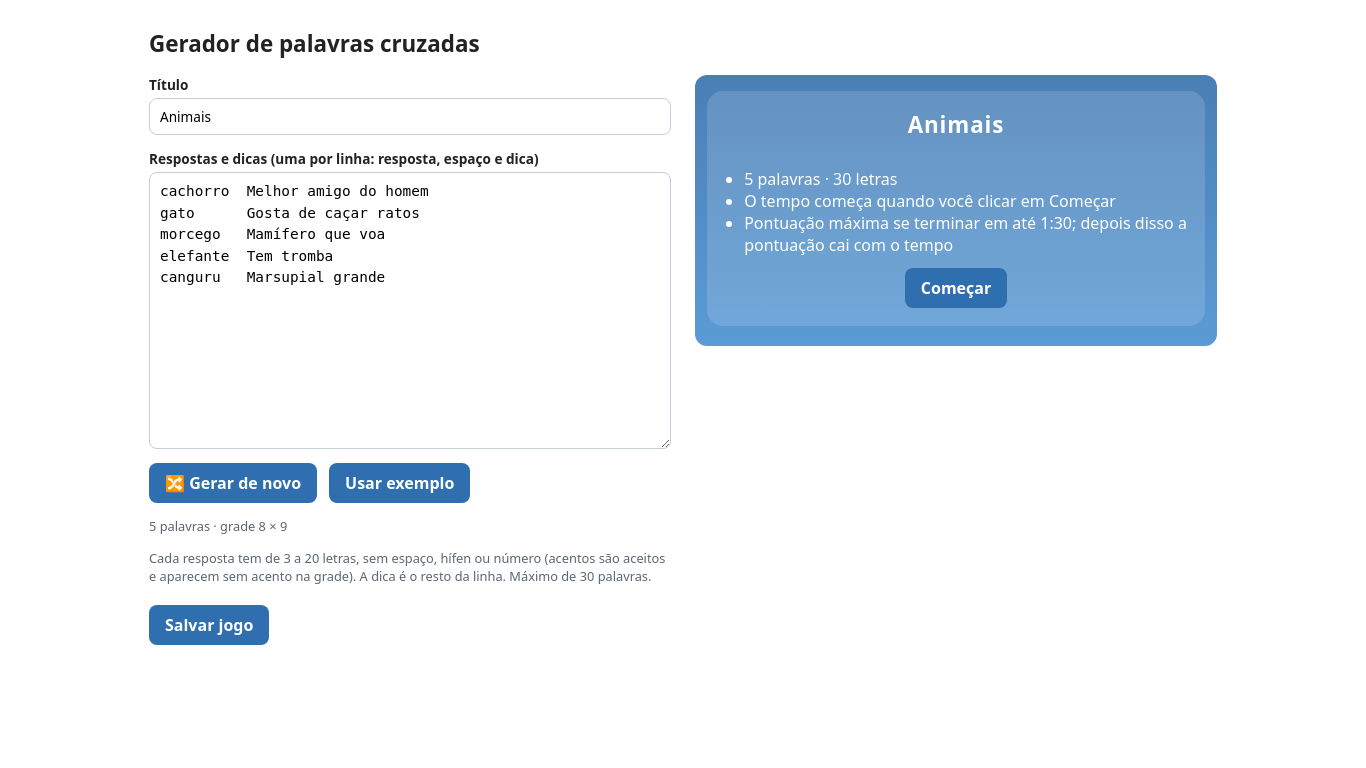
cruzadas como módulo › texto inválido desabilita o Salvar
Replace the text in the text box labelled "Respostas e dicas (uma por linha: resposta, espaço e dica)" with "a" at coordinates (410, 310), box x1=149 y1=172 x2=671 y2=449
Wait 500 ms
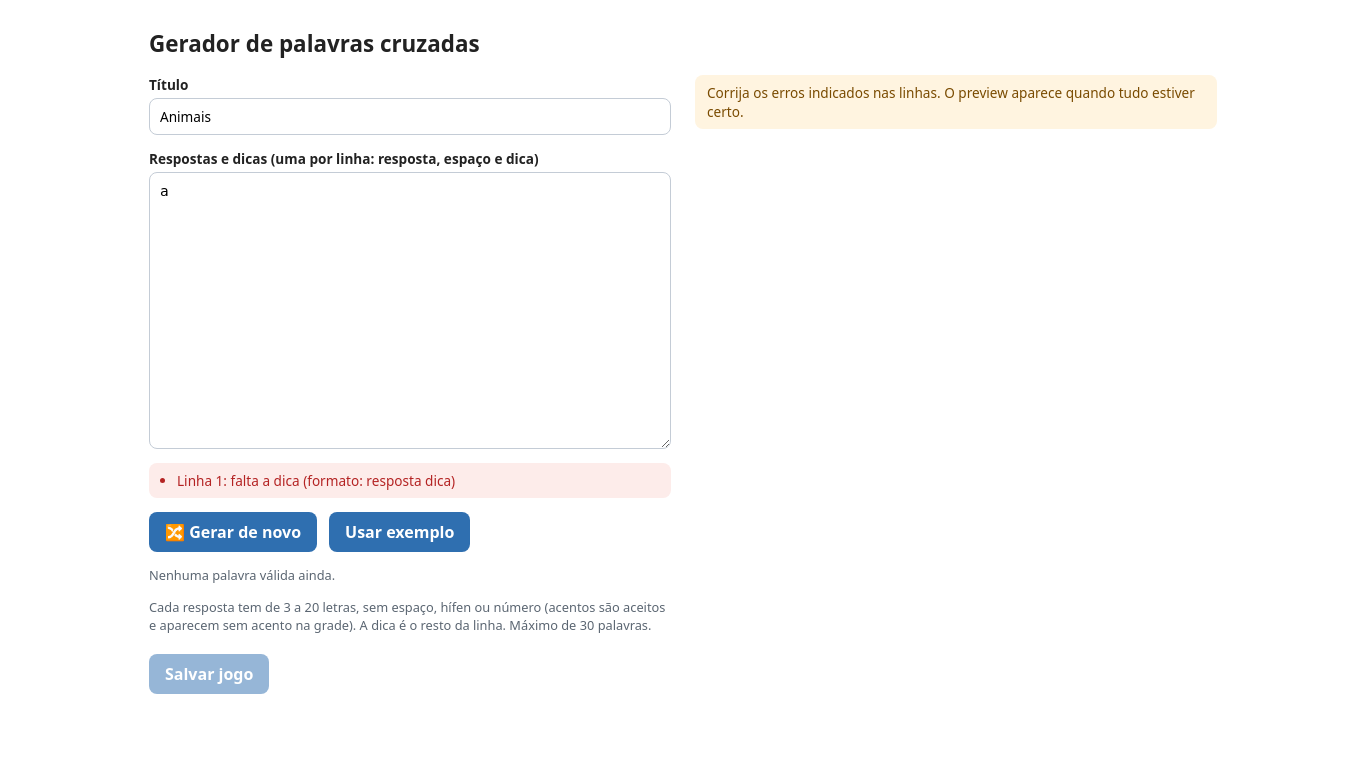
Now the button "Salvar jogo" is disabled, box x1=149 y1=654 x2=269 y2=694
